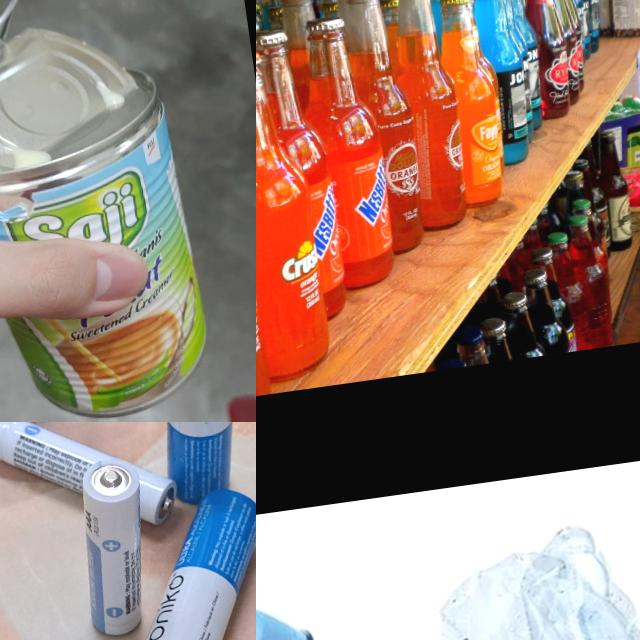aba de lata: (0, 0, 34, 77)
bateria: (102, 486, 256, 640), (0, 422, 181, 547), (70, 455, 160, 637), (142, 422, 256, 508)
garrafa de vidro: (289, 12, 402, 293), (256, 23, 352, 326), (256, 46, 336, 386), (338, 0, 432, 258), (379, 0, 477, 235), (425, 0, 510, 209), (463, 0, 536, 168), (517, 0, 575, 121), (590, 128, 638, 253), (521, 264, 576, 356), (502, 288, 548, 359), (478, 314, 513, 364), (452, 326, 489, 368)
garrafa plástica: (256, 515, 640, 640)
lata: (0, 0, 221, 422)
